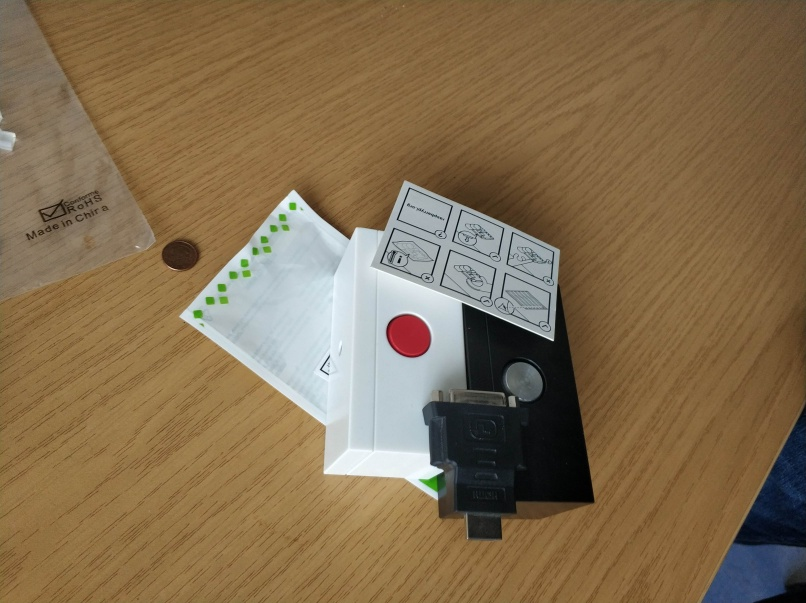black+black+silver: (461, 268, 598, 523)
white+white+red: (322, 225, 469, 482)
